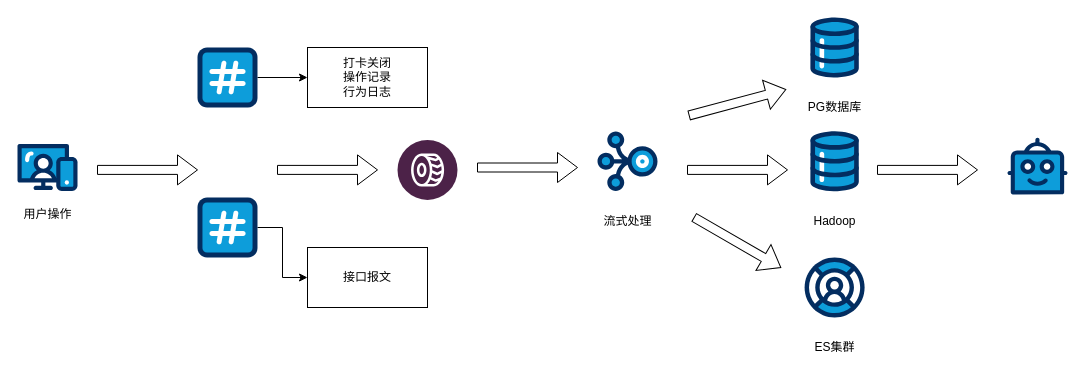
The diagram is 1085 pixels wide and 372 high, and some of its shapes have lost their labels. Each missing label, with the centre of its shape:
kafka: point (427, 169)
前端数据: point (227, 77)
后端数据: point (227, 227)
机器学习: point (1037, 165)
